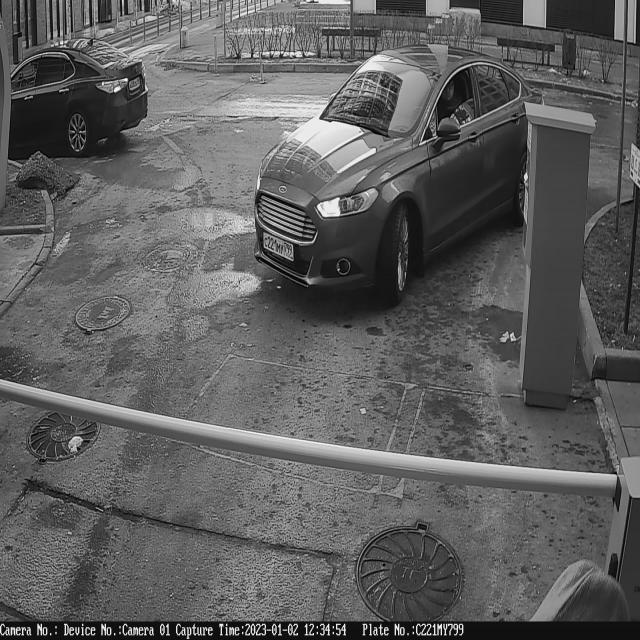car-plate-numbers: (262, 229, 296, 264)
